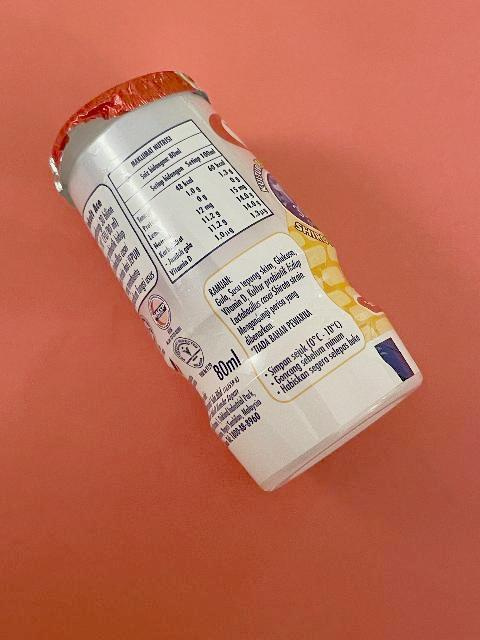plasticbottle: (47, 66, 422, 496)
